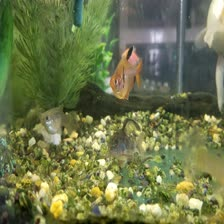Guppy: (37, 100, 81, 137)
Kiros: (97, 118, 151, 166)
Transparente: (108, 42, 143, 98)
